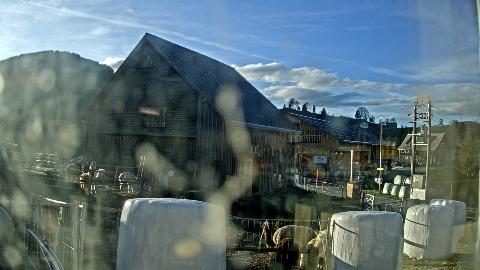car: (352, 172, 362, 178), (418, 160, 426, 166)
sheep: (274, 226, 326, 260), (262, 222, 294, 270), (300, 228, 328, 270), (265, 238, 295, 270), (0, 207, 15, 267), (80, 164, 96, 196), (89, 168, 105, 196), (119, 172, 137, 195), (66, 164, 82, 182), (376, 204, 394, 212)
